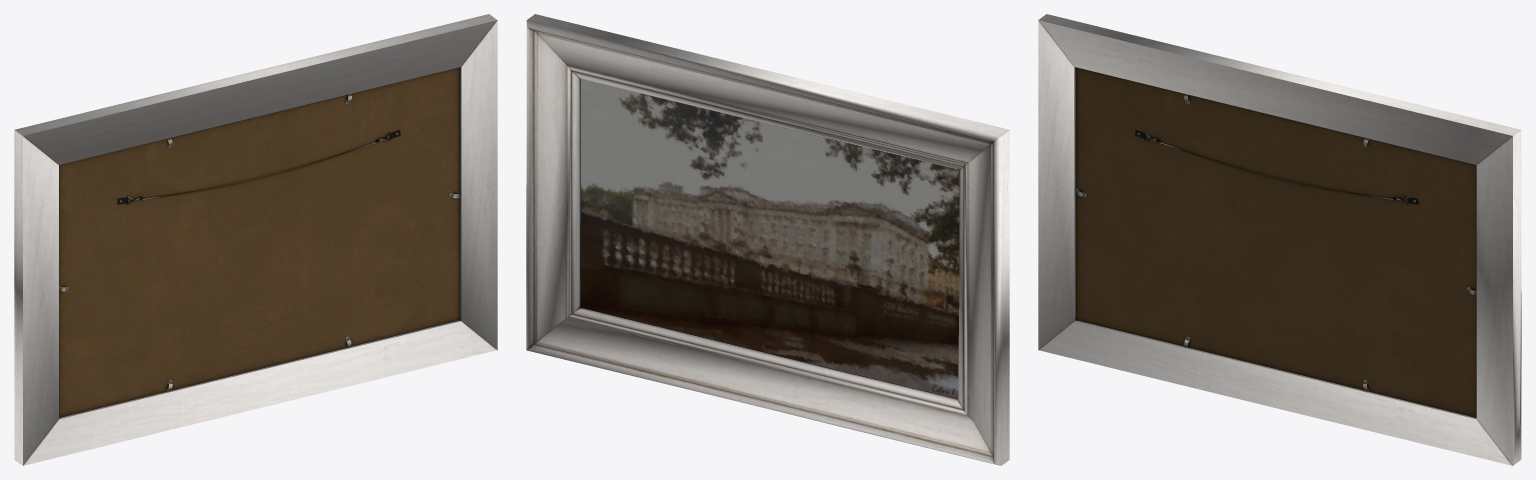
Rendered from picture2_hq.glb.
3 views of the same model, side by side, from view 1: azimuth 30°, elevation 25°; view 2: azimuth 150°, elevation 25°; view 3: azimuth 330°, elevation 25° (orthographic).
Parts seen in each view (by area): view 1: hanging_picture_frame_02; view 2: hanging_picture_frame_02; view 3: hanging_picture_frame_02.
Part boxes in pixels (x1=…): hanging_picture_frame_02: x1=14, y1=14, x2=497, y2=465; hanging_picture_frame_02: x1=526, y1=14, x2=1009, y2=465; hanging_picture_frame_02: x1=1038, y1=14, x2=1521, y2=465.
Size of the model in its own units: 0.7512 by 0.4988 by 0.0322.
2 materials, 2 textured.
